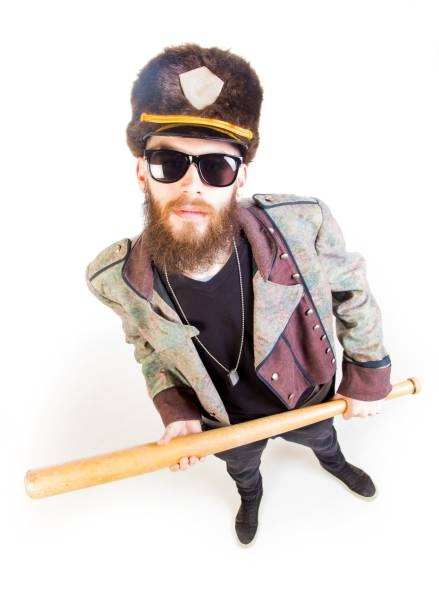bita: (25, 380, 421, 499)
